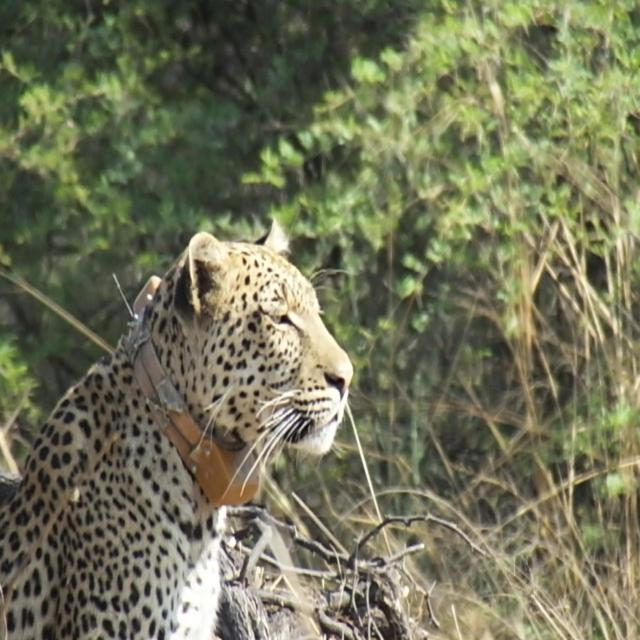Leopard: (0, 216, 353, 640)
